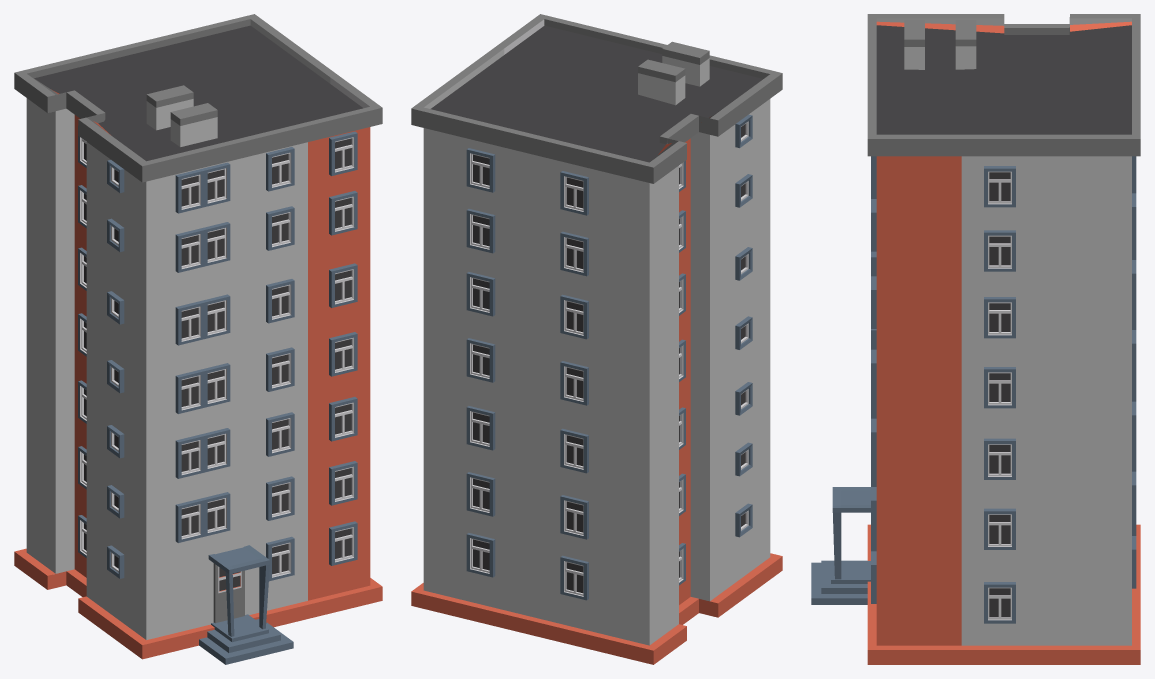
The model's file is flat_2.fbx.
3 views of the same model, side by side, from view 1: azimuth 30°, elevation 25°; view 2: azimuth 150°, elevation 25°; view 3: azimuth 270°, elevation 25° (orthographic). The views are drawn at different scales.
Parts seen in each view (by area): view 1: Flat1.088; view 2: Flat1.088; view 3: Flat1.088.
Boxes of the visible parts, bbox=[...] form: Flat1.088: bbox=[14, 14, 382, 664]; Flat1.088: bbox=[411, 14, 782, 664]; Flat1.088: bbox=[811, 14, 1140, 664].
Bounding box in the file's own units: 6.21 × 12.7 × 6.92.
